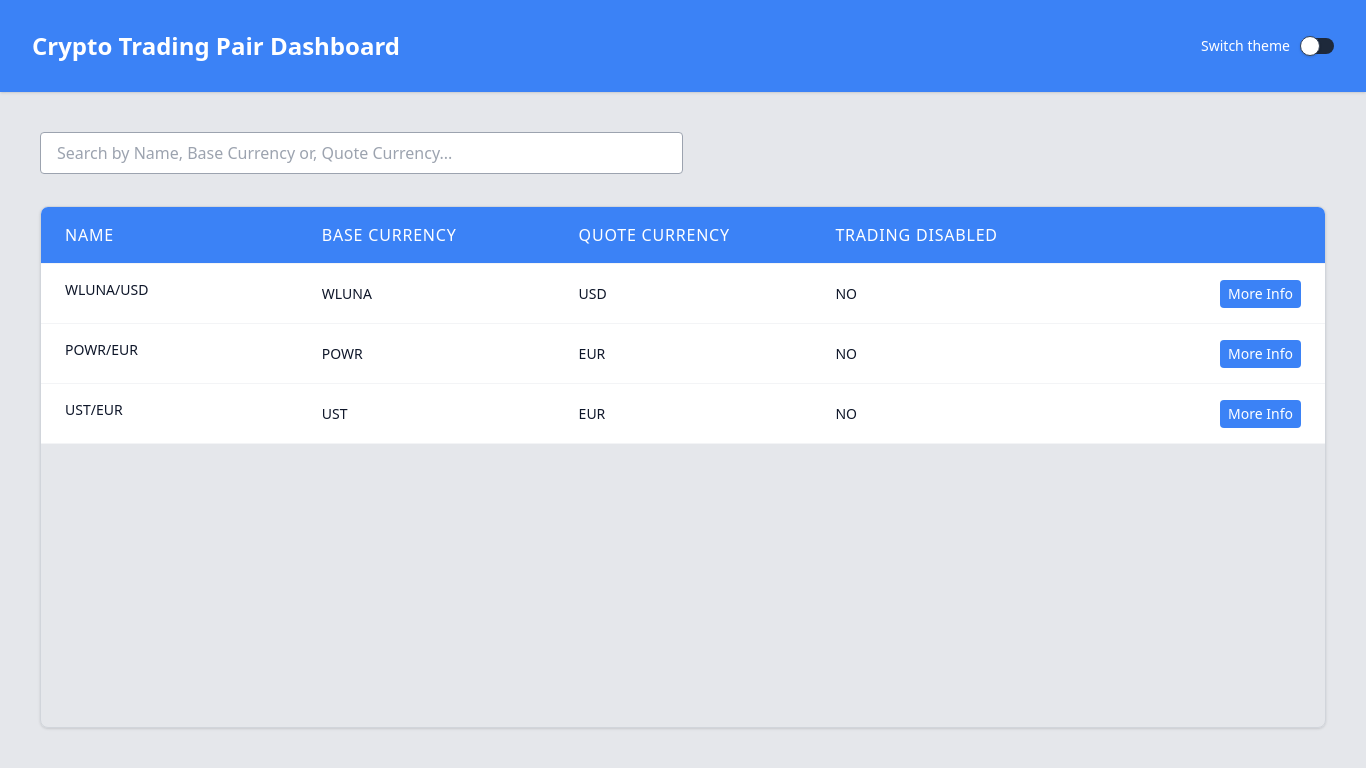
Test: Test Crypto Trading Pair Dashboard › As a user I want to be able to sort crypto pair
Click the button "Name": click(169, 235) [41, 207, 298, 263]
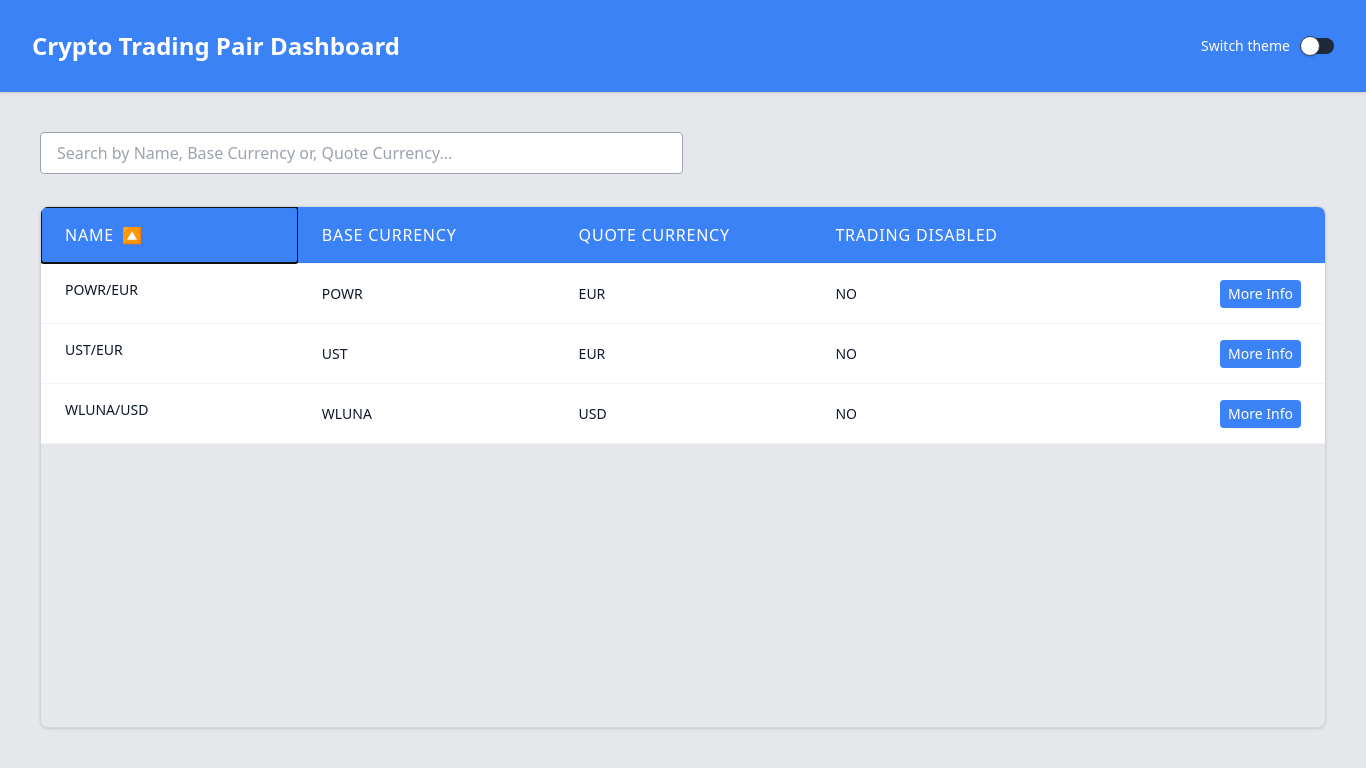
Now the element with test id "table-row-0" shows "POWR/EUR", box [65, 280, 138, 299]
Now the element with test id "table-row-1" shows "UST/EUR", box [65, 340, 123, 359]
Now the element with test id "table-row-2" shows "WLUNA/USD", box [65, 400, 148, 419]
Click the text "Name": click(90, 235) [65, 223, 114, 247]
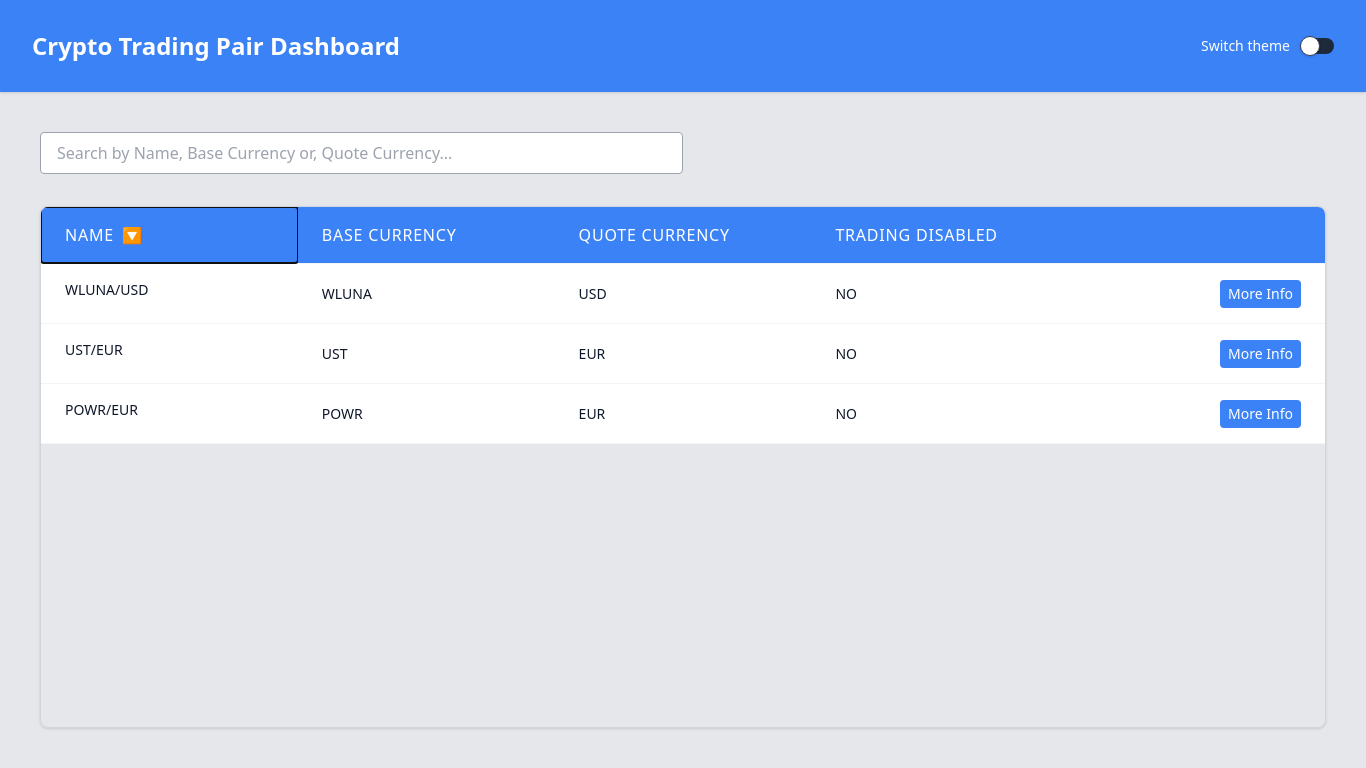
Now the element with test id "table-row-1" shows "UST/EUR", box [65, 340, 123, 359]
Now the element with test id "table-row-0" shows "WLUNA/USD", box [65, 280, 148, 299]
Now the element with test id "table-row-2" shows "POWR/EUR", box [65, 400, 138, 419]
